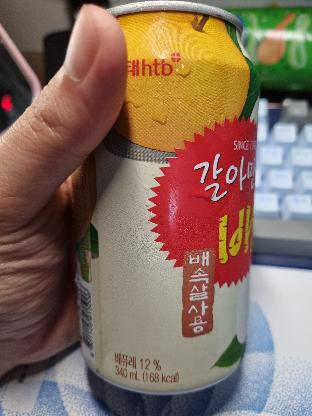Can: (65, 2, 270, 396)
